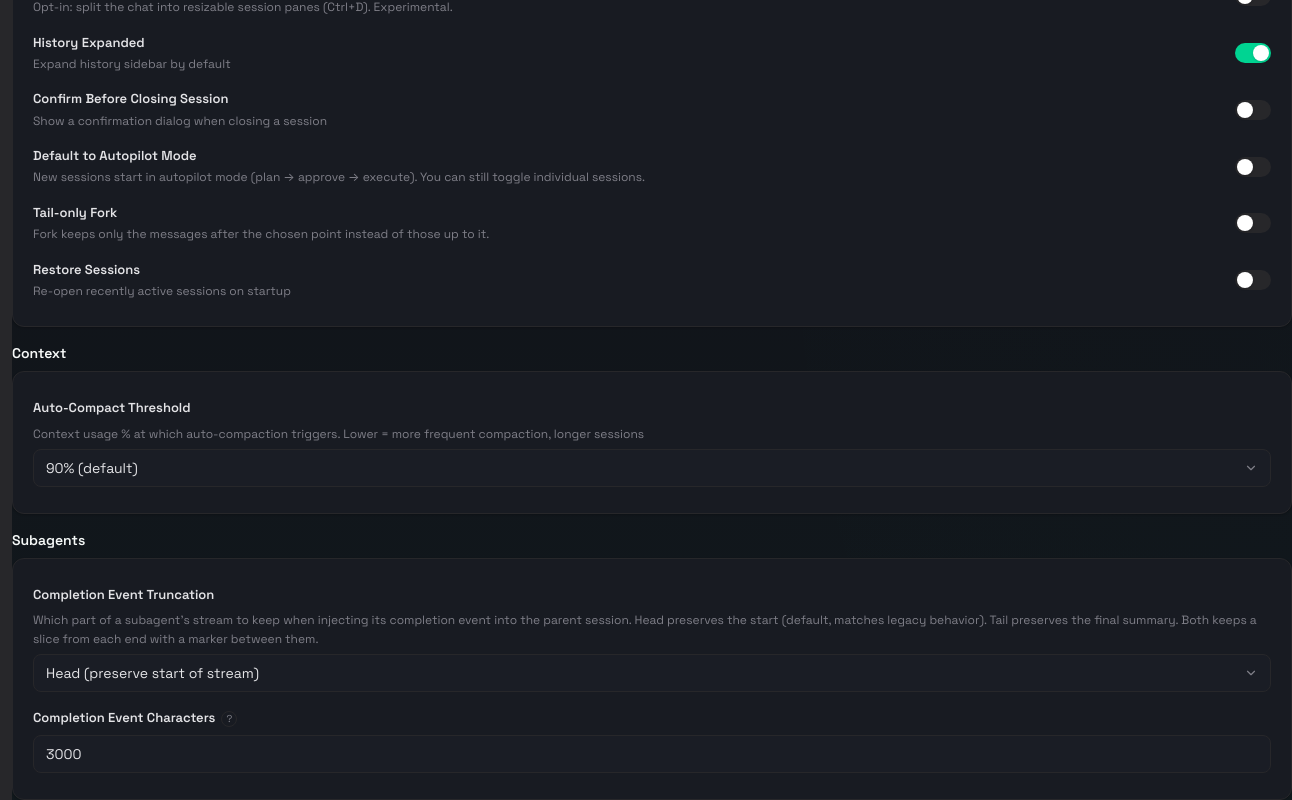
Scenario: ChatPanel settings – Subagents section › reverts and does NOT PATCH when the value is out of range
The image size is (1292, 800).
(page scrolled)
Replace the text in the number field named "Completion event characters" with "999999999" at (652, 754), box [33,735,1271,773]
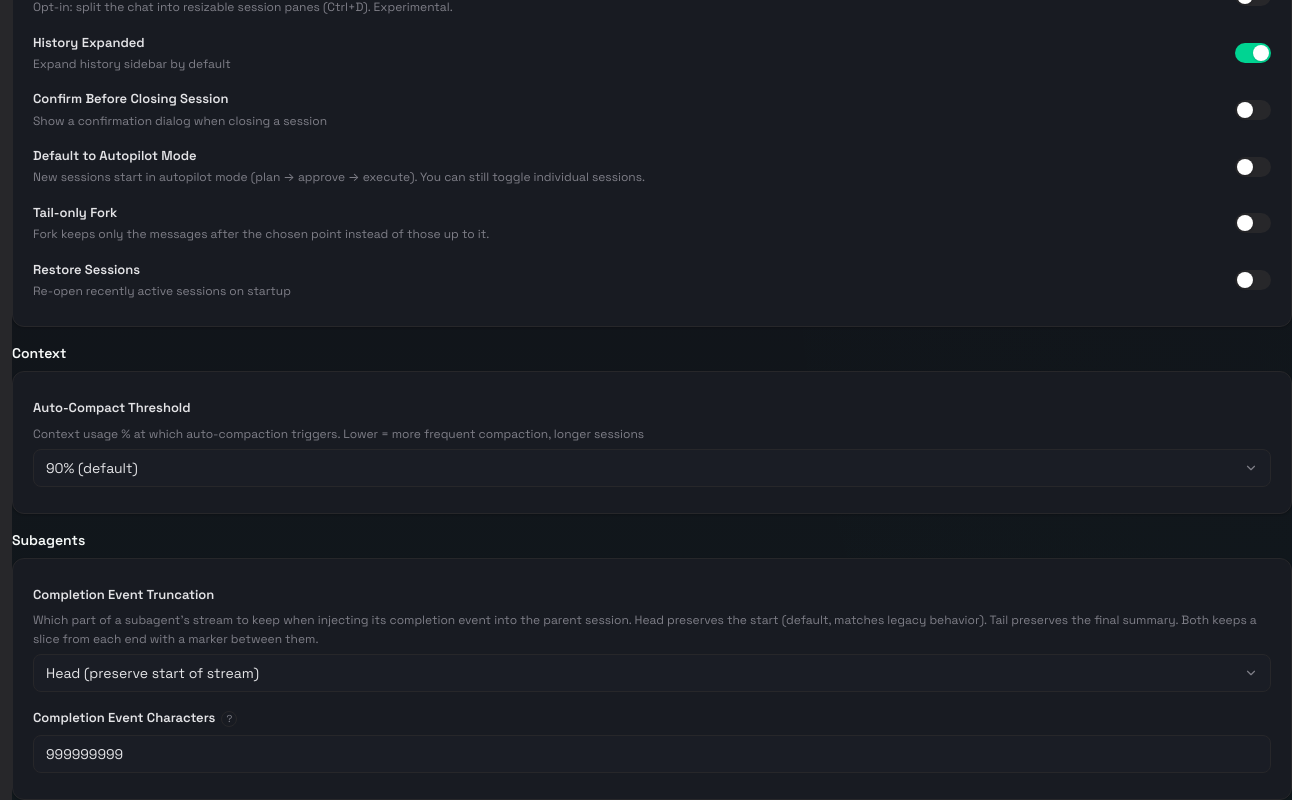
Leave the number field named "Completion event characters", box [33,735,1271,773]
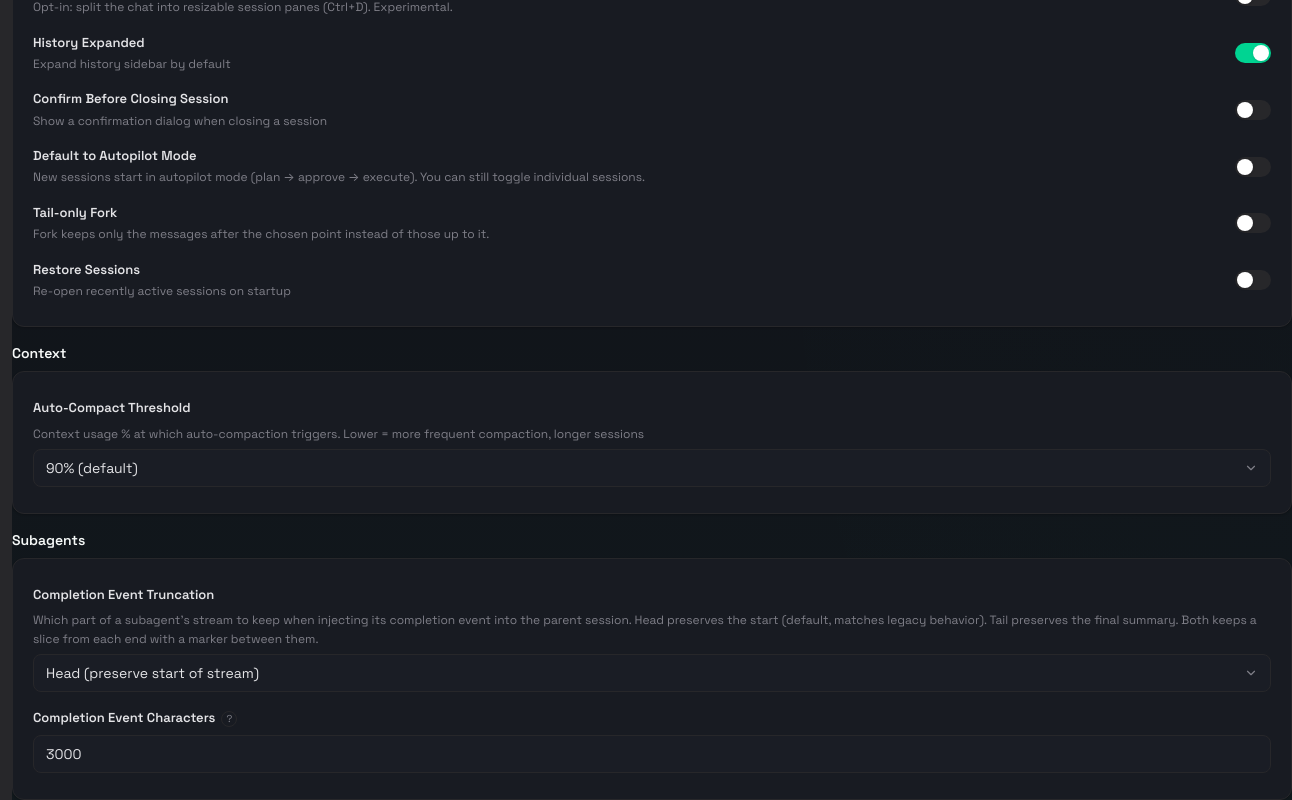
Now the number field named "Completion event characters" holds "3000", box [33,735,1271,773]
